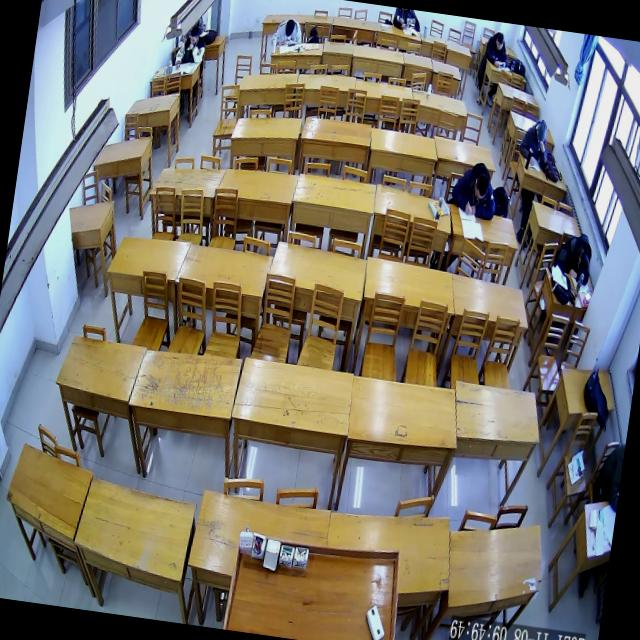bow: (448, 159, 501, 221), (556, 230, 594, 286), (270, 16, 304, 48)
down: (473, 172, 490, 200), (534, 120, 548, 142), (189, 24, 200, 46), (284, 20, 296, 38), (494, 34, 504, 52)
sit: (516, 116, 552, 168), (175, 23, 208, 71), (484, 32, 512, 68)
